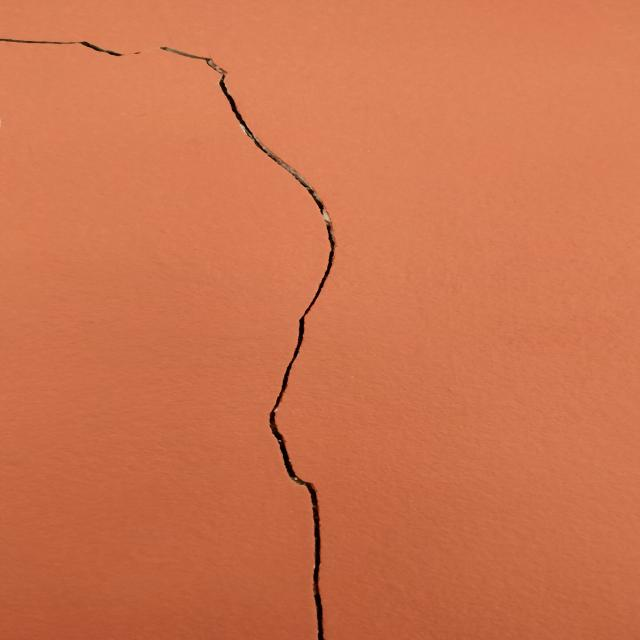Crack: (5, 34, 350, 640)
